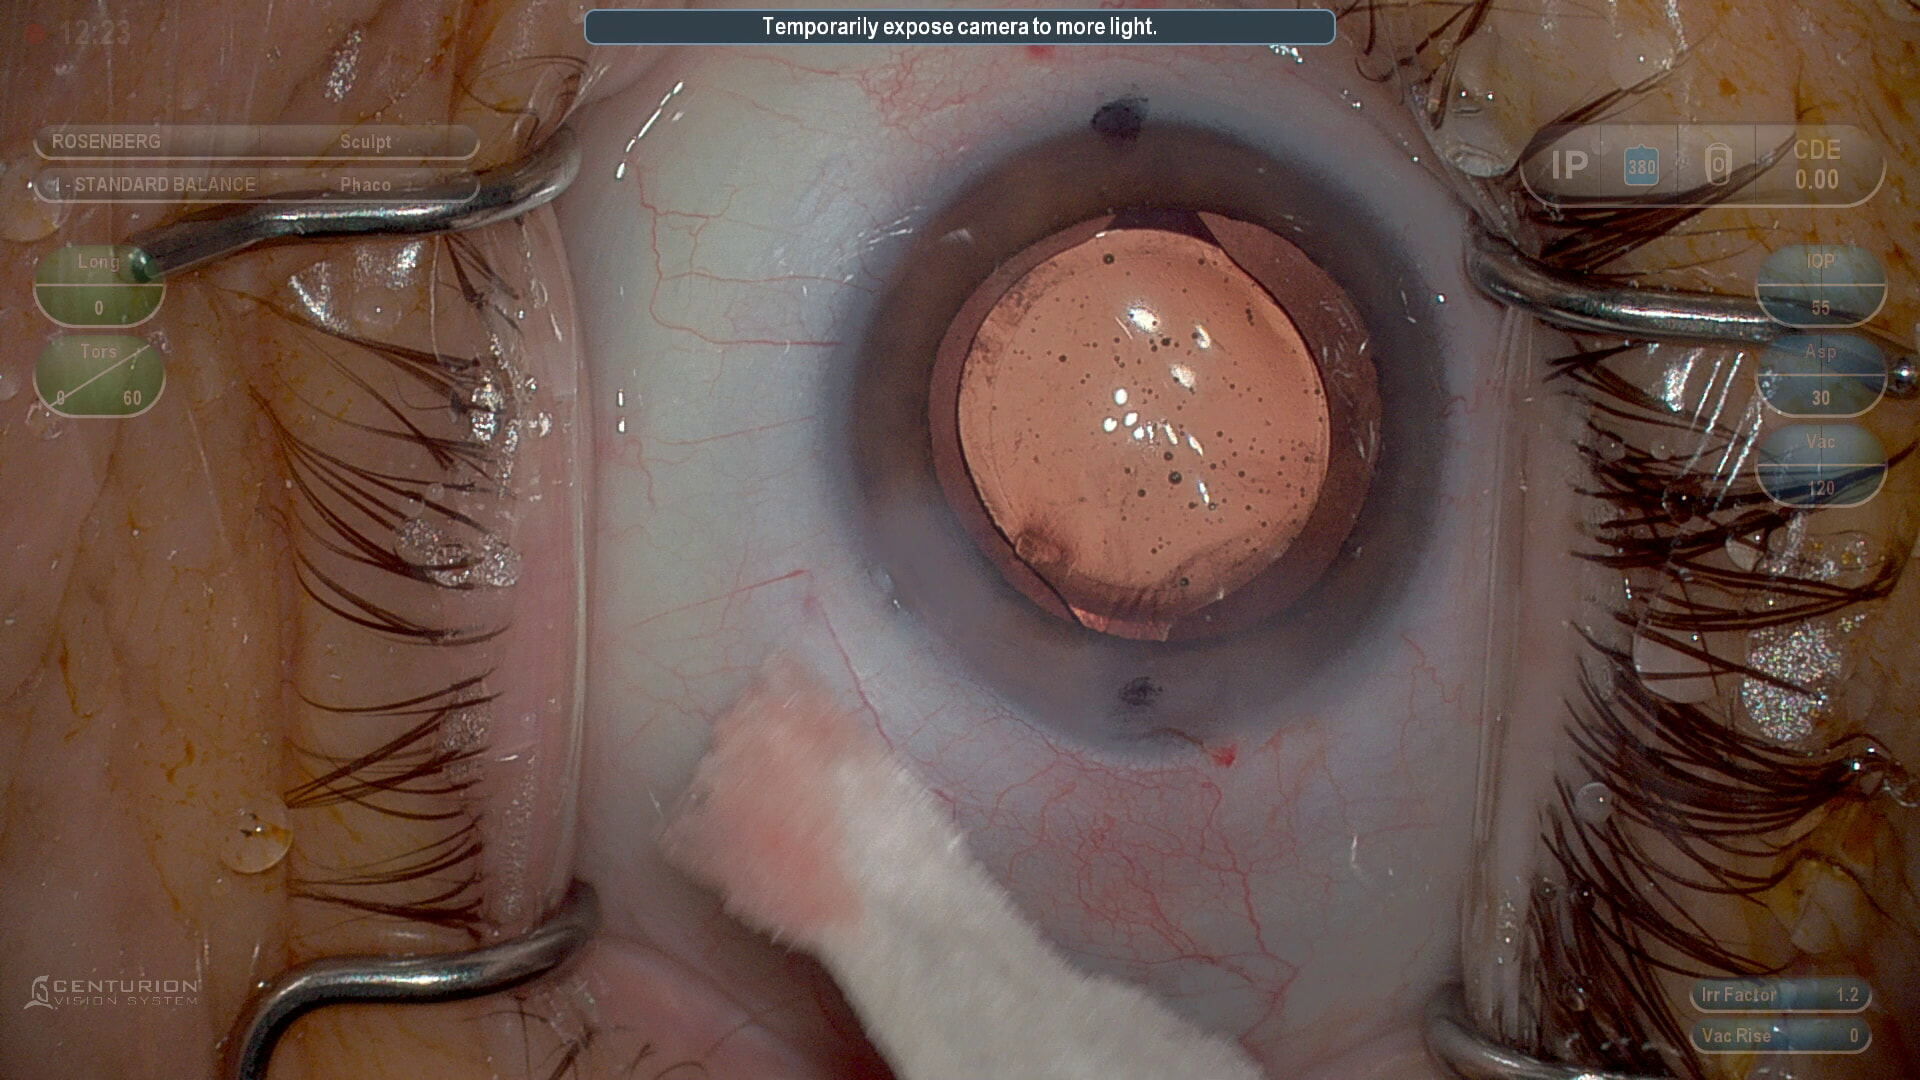iris: (849, 121, 1455, 743)
pupil: (923, 205, 1391, 653)
